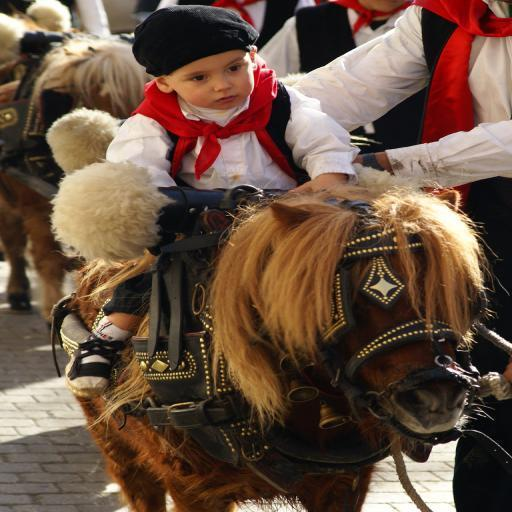horse: (64, 175, 492, 512), (0, 38, 160, 337)
